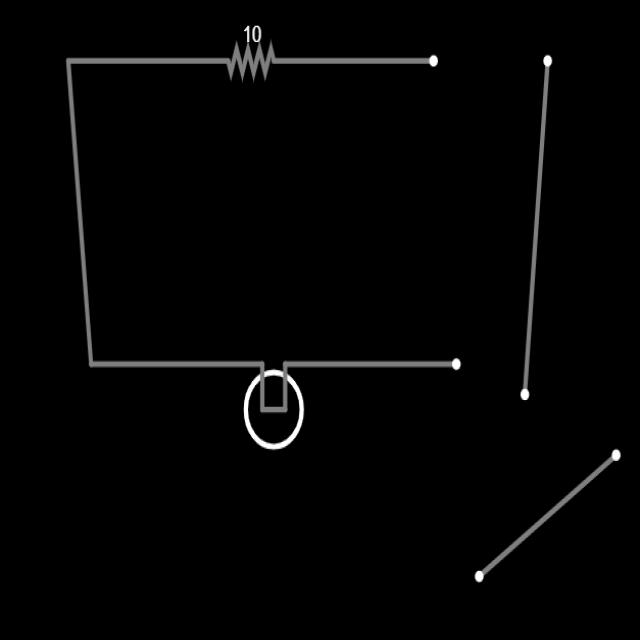Light Bulb: (245, 367, 304, 449)
Resistor: (228, 42, 275, 81)
Wire: (475, 450, 620, 582), (520, 55, 552, 400), (67, 65, 92, 359), (282, 360, 460, 373), (272, 55, 438, 66), (88, 361, 264, 370), (72, 59, 235, 64)
